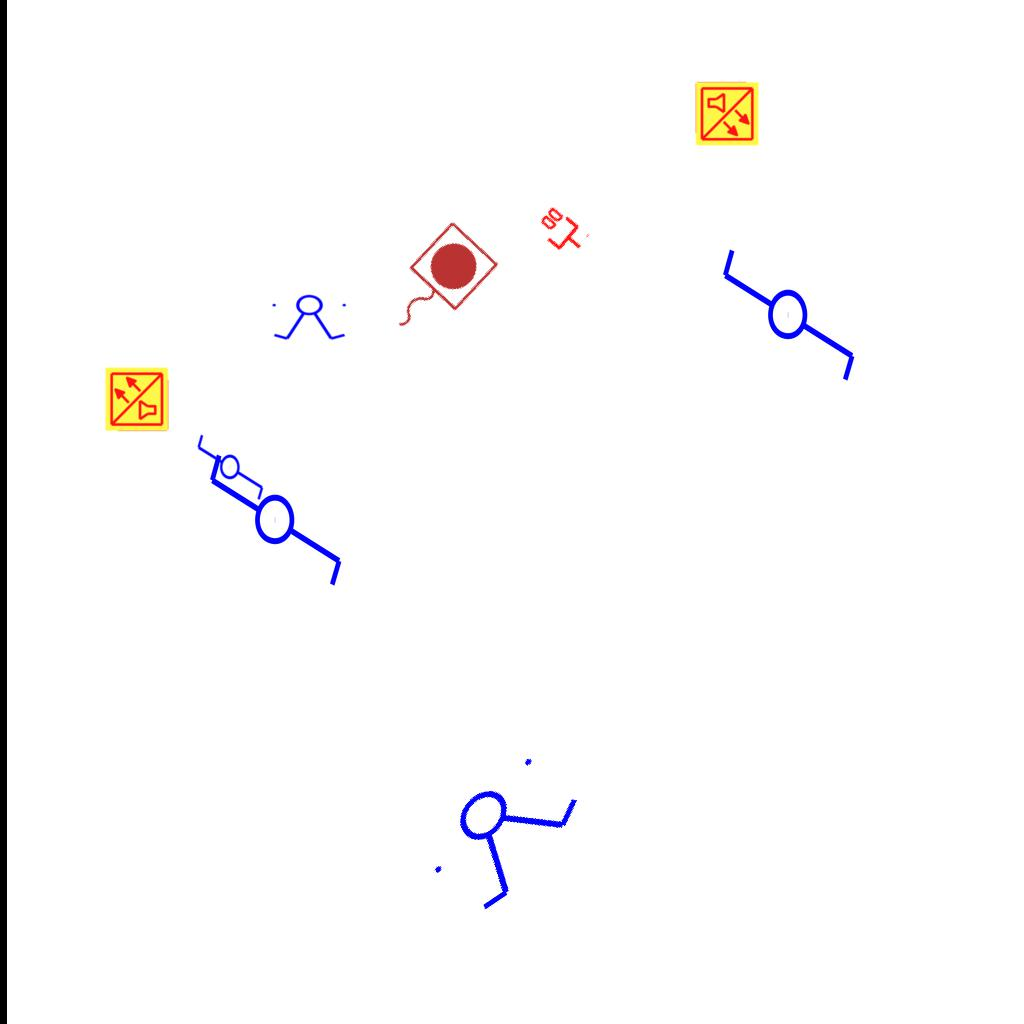Datenanschluss_zweifach: (530, 203, 592, 262)
OKW_Multisensormelder_(Kombination_optischer_Rauch-Kahlenmonoxid_Waerme-Melder): (694, 81, 760, 147), (104, 366, 170, 432)
Serienschalter: (413, 735, 595, 927), (268, 294, 352, 342)
Wechselschalter: (718, 228, 862, 385), (205, 433, 349, 590), (195, 424, 267, 502)
Zugtaster: (368, 214, 504, 354)
